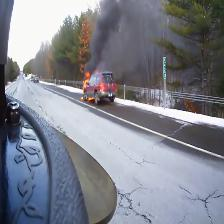fire: (78, 68, 103, 109)
nofire: (77, 9, 98, 63)
